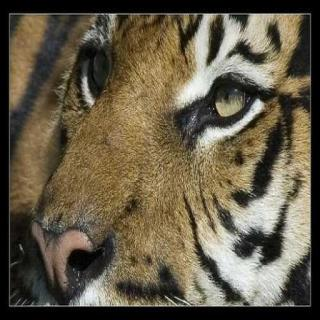Tiger: (14, 12, 320, 306)
